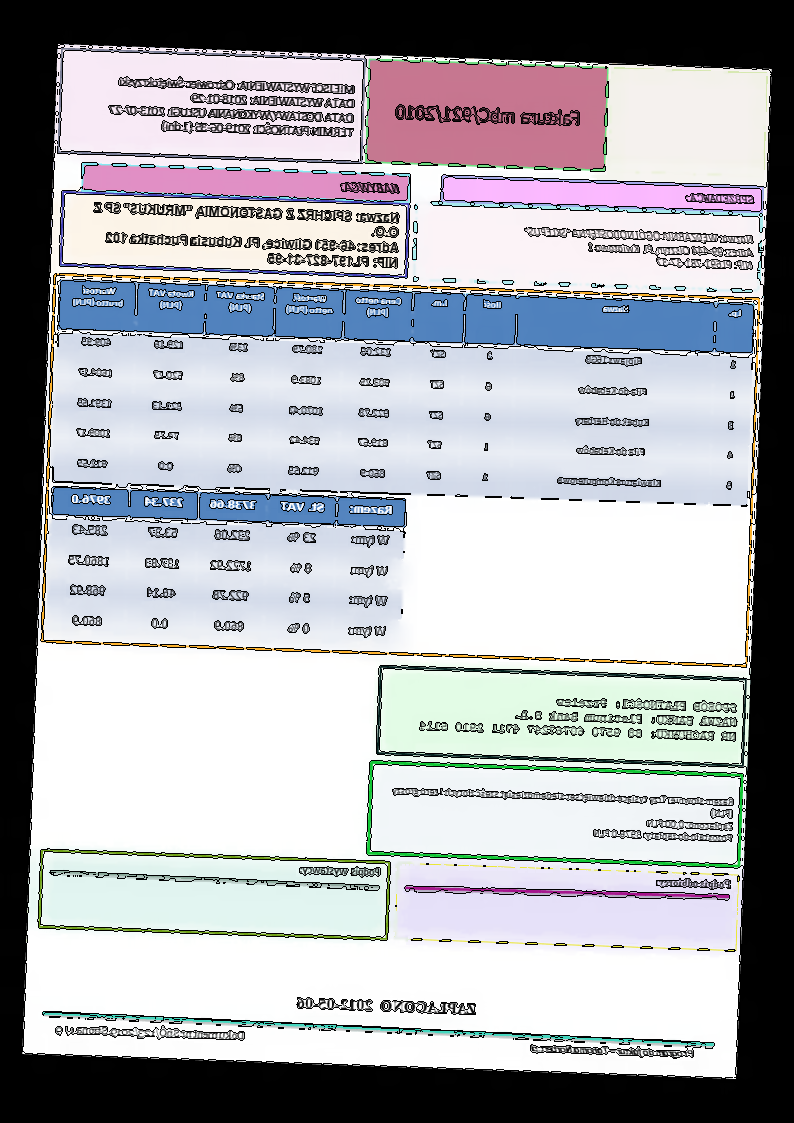Table: (50, 277, 757, 509), (44, 486, 407, 650)
TextBox: (88, 196, 405, 274), (387, 782, 737, 847), (417, 686, 740, 748), (105, 72, 360, 143), (518, 220, 757, 275), (392, 94, 590, 134), (52, 1020, 249, 1048), (291, 993, 480, 1020), (525, 1037, 698, 1061), (295, 861, 385, 882), (653, 872, 735, 894), (685, 187, 760, 208), (339, 175, 404, 199)
